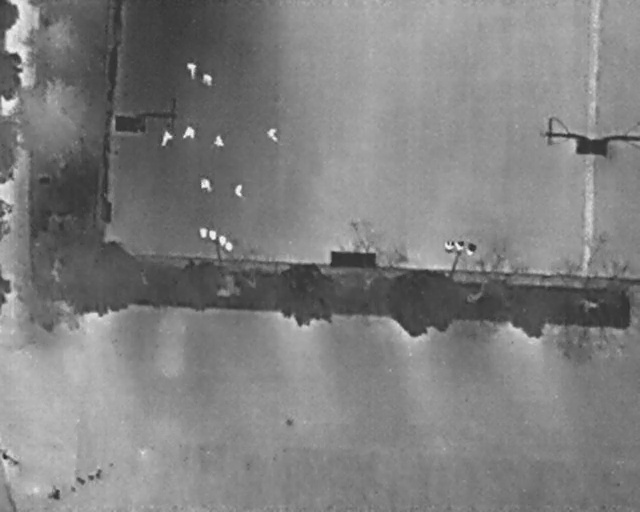Person: (157, 129, 175, 150), (181, 125, 196, 141), (186, 61, 197, 80), (201, 72, 214, 87), (266, 128, 280, 141), (213, 135, 225, 148), (199, 178, 211, 191), (234, 184, 244, 197)
